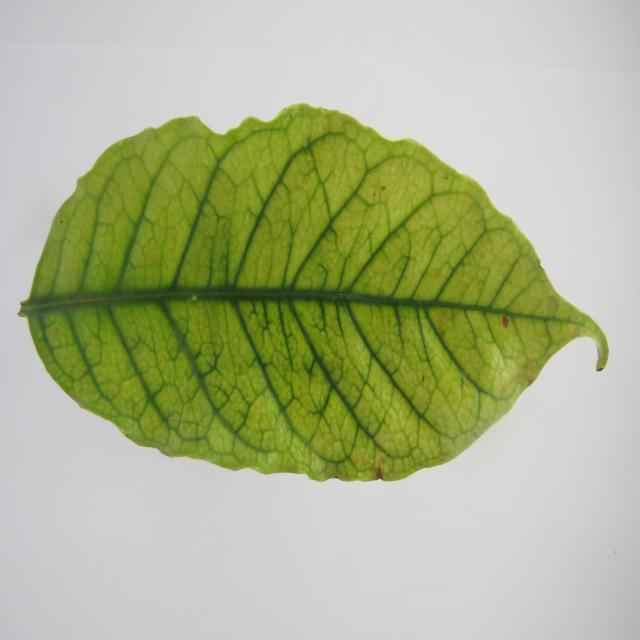DeficienciaNutricional-Hierro: (17, 108, 564, 480)
